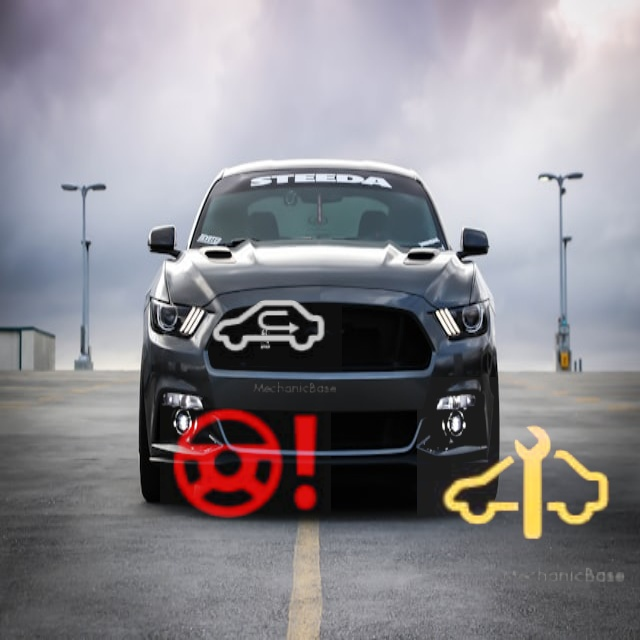symbol: (417, 377, 633, 593), (160, 379, 331, 550), (196, 254, 342, 400)
